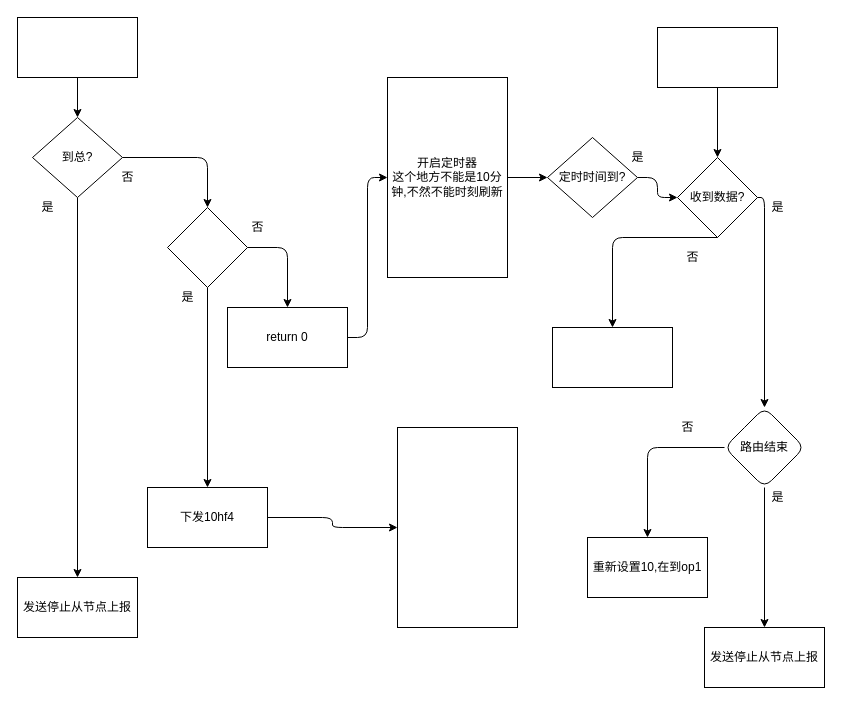
Some shapes in this 842 by 705 pixel diagram are drawn without their labels. Each missing label, with the centre of its shape:
"op1" belongs at pixel 77 47.
"op2" belongs at pixel 717 57.
"到10?" belongs at pixel 207 247.
"收到10f4fan" belongs at pixel 457 527.
"重试到op1" belongs at pixel 612 357.
